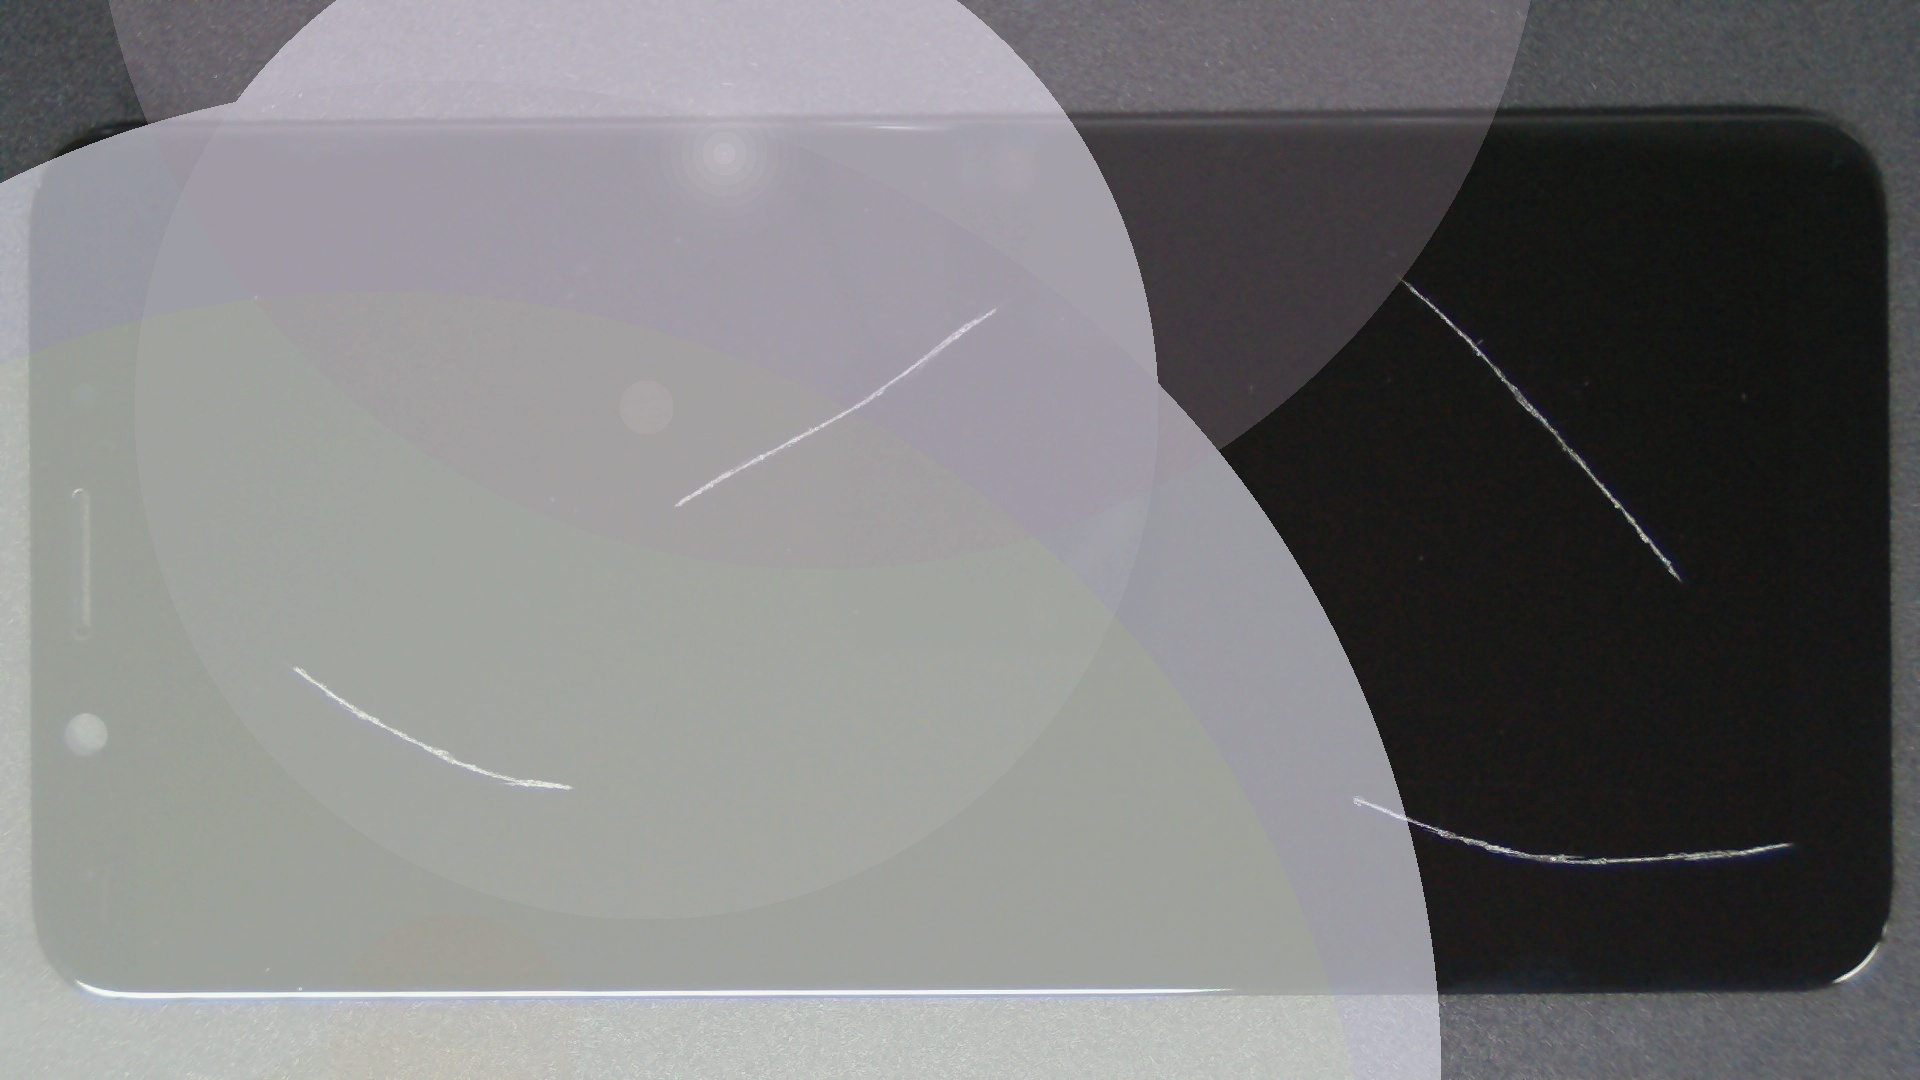oil: (678, 397, 1920, 1080), (699, 137, 1920, 417), (497, 153, 1490, 462), (148, 332, 442, 998)
